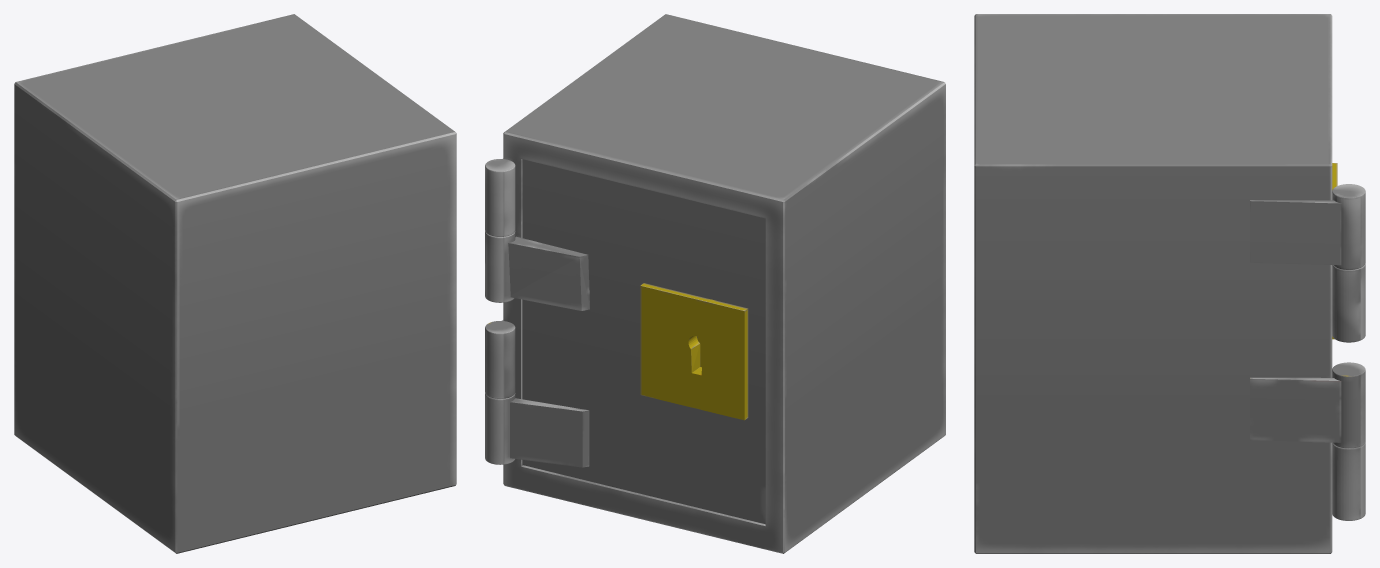
Rendered from safe.glb.
3 renders of one model, left to right at view 1: azimuth 30°, elevation 25°; view 2: azimuth 150°, elevation 25°; view 3: azimuth 270°, elevation 25°, orthographic. The views are drawn at different scales.
Parts seen in each view (by area): view 1: Cylinder.011; view 2: Cylinder.011; view 3: Cylinder.011.
Boxes of the visible parts, x1=… form: Cylinder.011: x1=14, y1=14, x2=456, y2=553; Cylinder.011: x1=485, y1=14, x2=945, y2=553; Cylinder.011: x1=974, y1=14, x2=1365, y2=553.
Bounding box in the file's own units: 8.44 × 9.87 × 8.97.
1 material, 1 textured.
